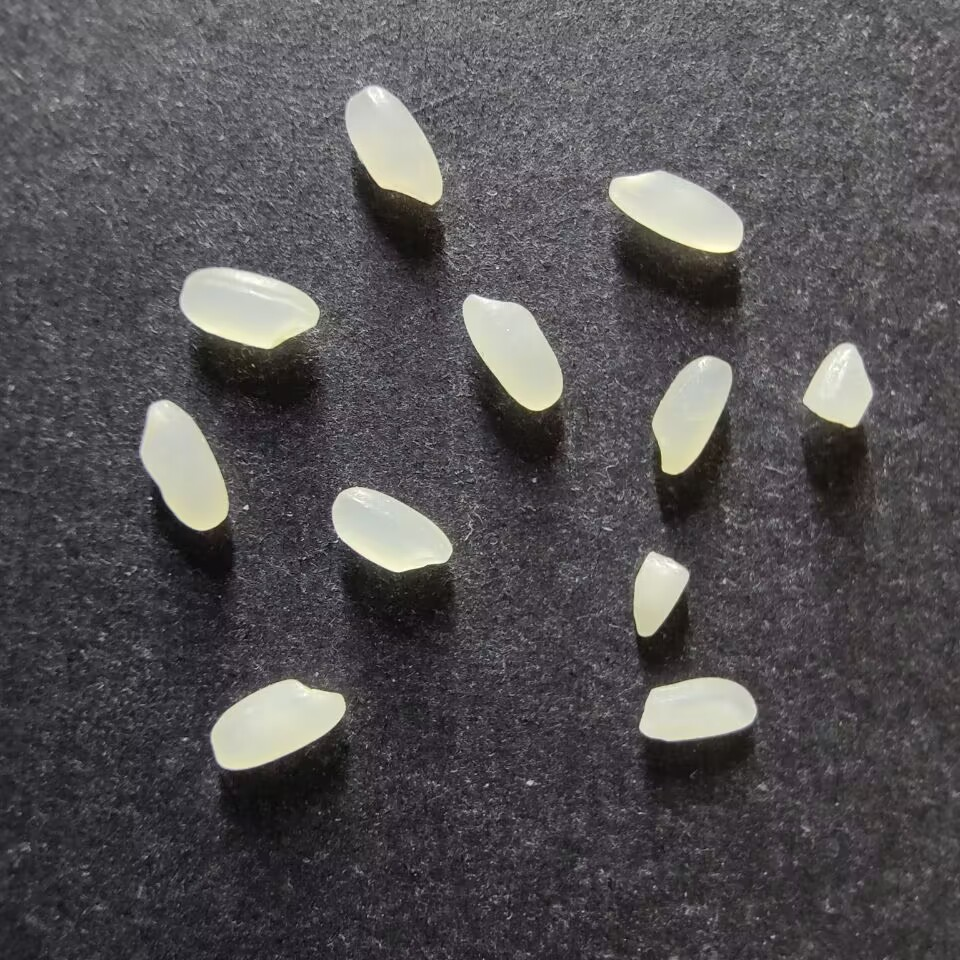broken: (801, 342, 874, 429), (631, 551, 689, 639)
rice: (209, 677, 346, 770), (461, 292, 564, 411), (138, 399, 229, 531), (178, 266, 320, 350), (343, 86, 443, 205), (607, 169, 743, 253), (330, 486, 452, 572), (650, 356, 733, 475), (637, 676, 757, 741)
